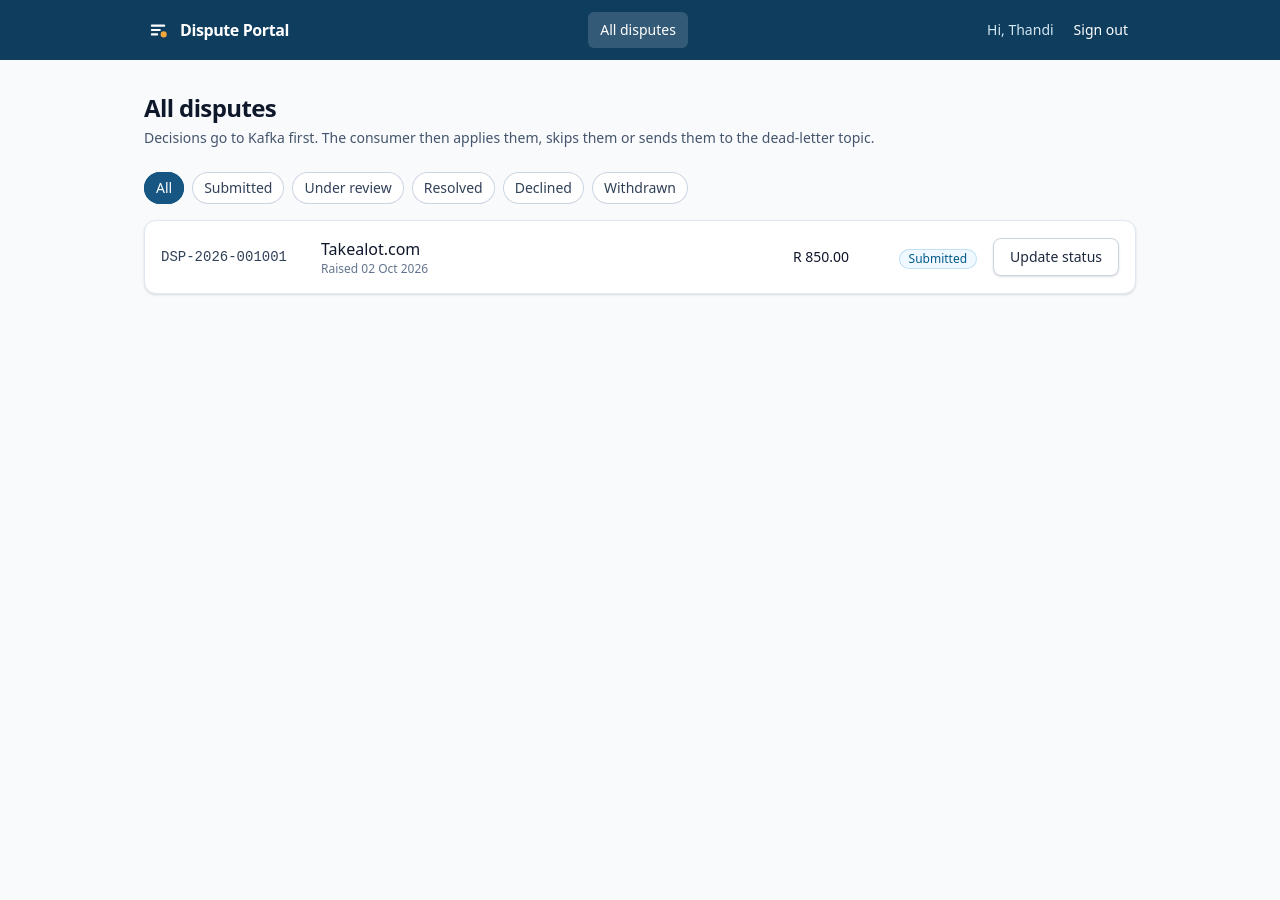
Test: AgentDisputesPage › picks up the status change after a decision without a manual refresh
Click the button "Update status" at [1056, 257], box [993,238,1119,276]
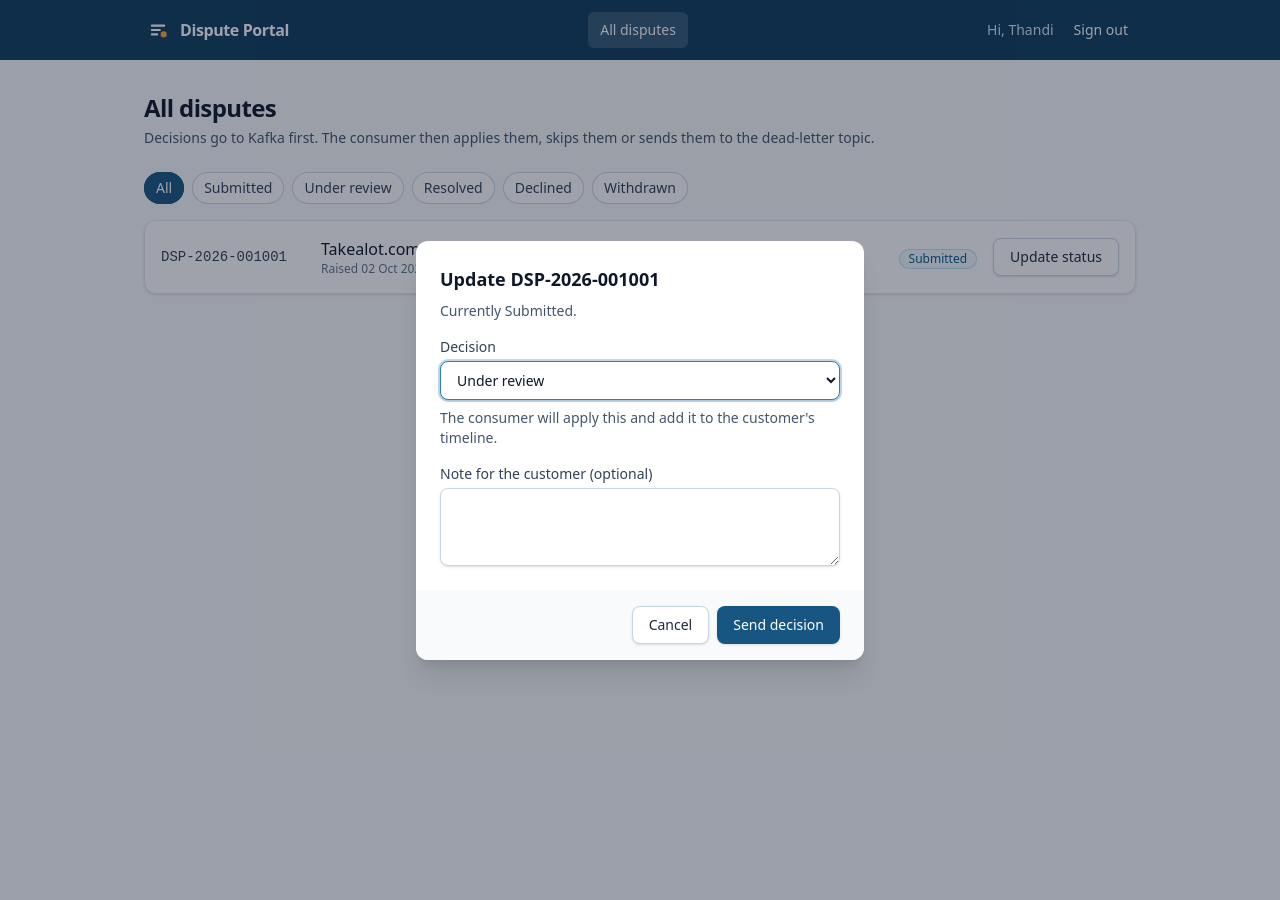
Click the button "Send decision" at [779, 624], box [717,606,840,644]
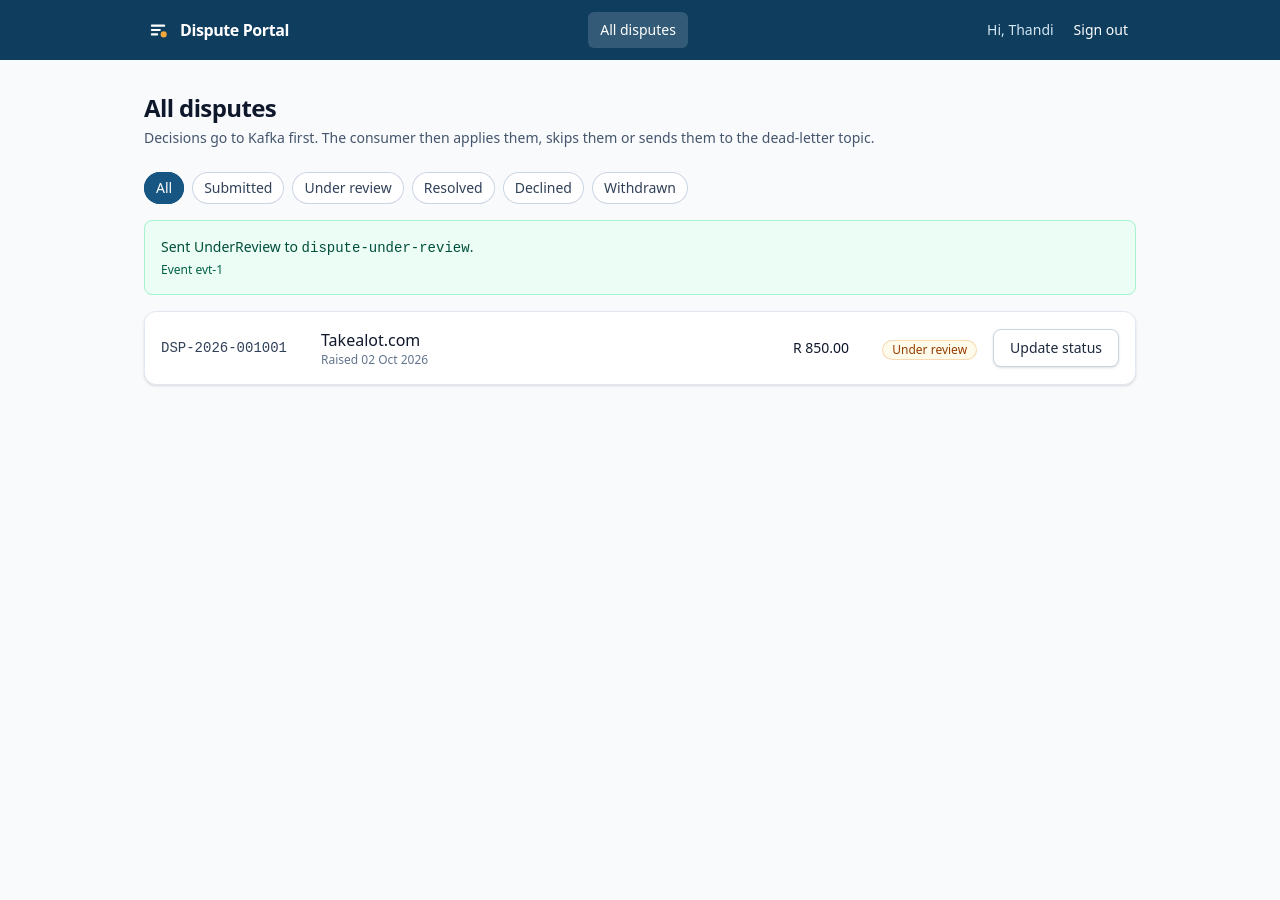
Now the text "Under review" is shown, box [882,340,977,360]
